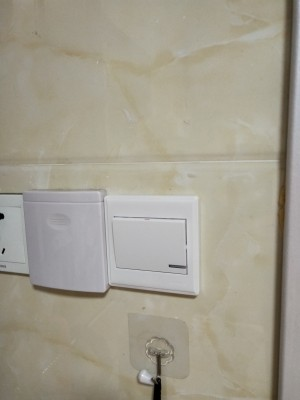switch: (111, 210, 194, 278)
